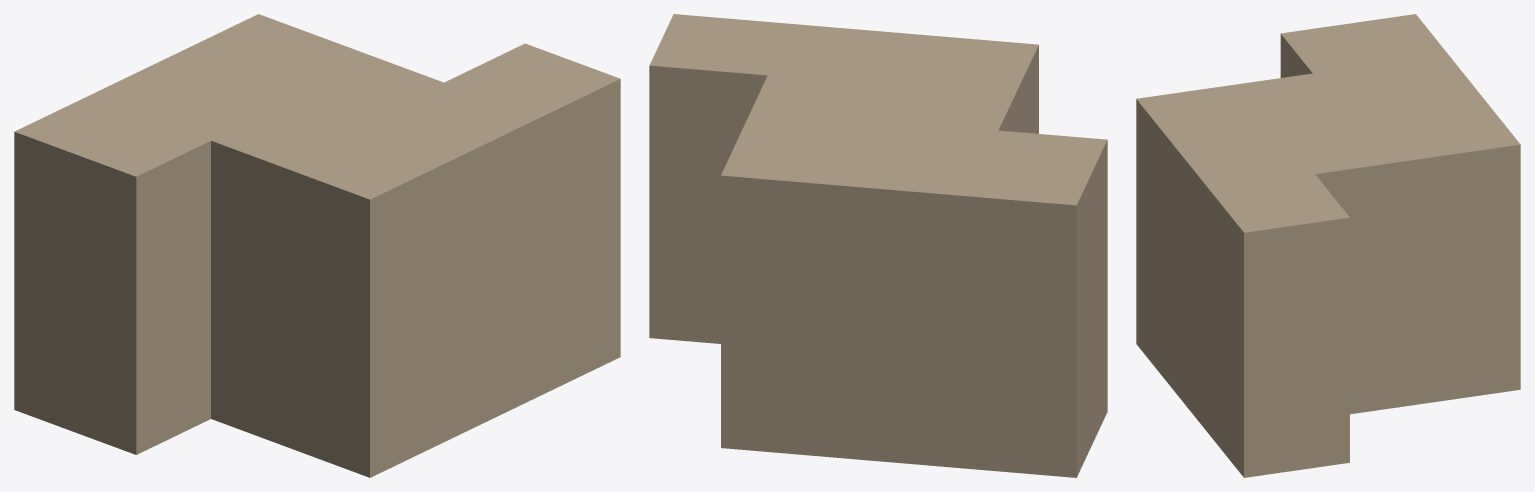
The model's file is bld_101791604.dae.
3 renders of one model, left to right at view 1: azimuth 30°, elevation 25°; view 2: azimuth 150°, elevation 25°; view 3: azimuth 270°, elevation 25°, orthographic. The views are drawn at different scales.
Parts seen in each view (by area): view 1: bld_101791604; view 2: bld_101791604; view 3: bld_101791604.
Part boxes in pixels (x1,y1,x2,y2): bld_101791604: (14, 14, 620, 477); bld_101791604: (649, 14, 1107, 477); bld_101791604: (1136, 14, 1520, 477).
Size of the model in its own units: 15.32 by 11.37 by 8.
